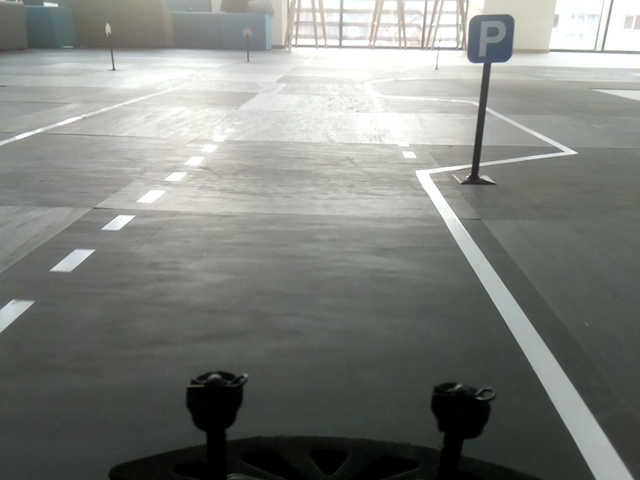parking: (467, 13, 515, 62)
